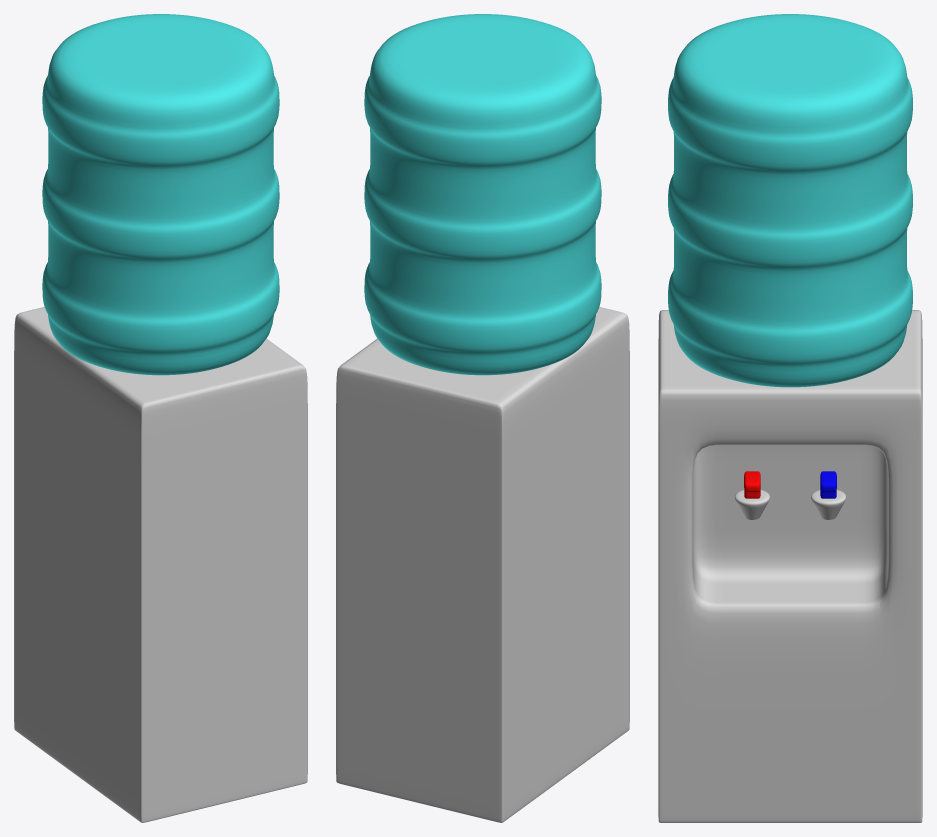
File: WaterCooler.fbx
3 renders of one model, left to right at view 1: azimuth 30°, elevation 25°; view 2: azimuth 150°, elevation 25°; view 3: azimuth 270°, elevation 25°, orthographic. The views are drawn at different scales.
Visible parts, largest first — view 1: WaterCooler; view 2: WaterCooler; view 3: WaterCooler.
Boxes of the visible parts, x1,y1,x2,y2 form: WaterCooler: (14, 14, 307, 822); WaterCooler: (336, 14, 629, 822); WaterCooler: (658, 14, 922, 822).
Bounding box in the file's own units: 6.72 × 21.96 × 7.24.
